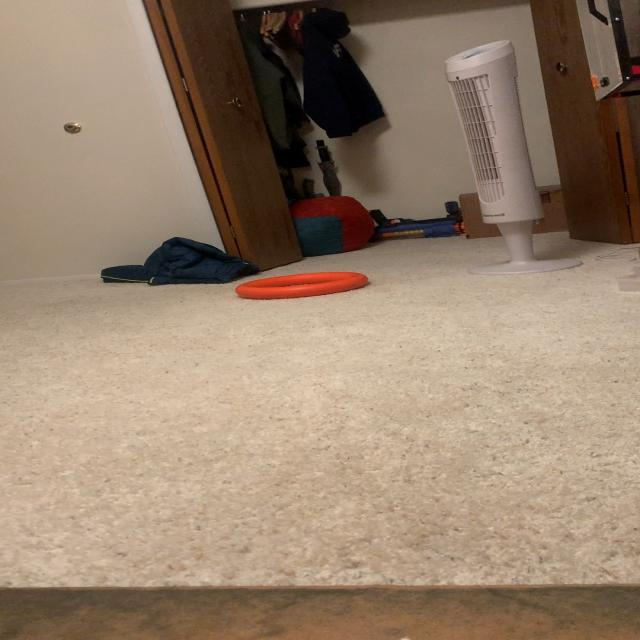notes: (237, 273, 367, 299)
